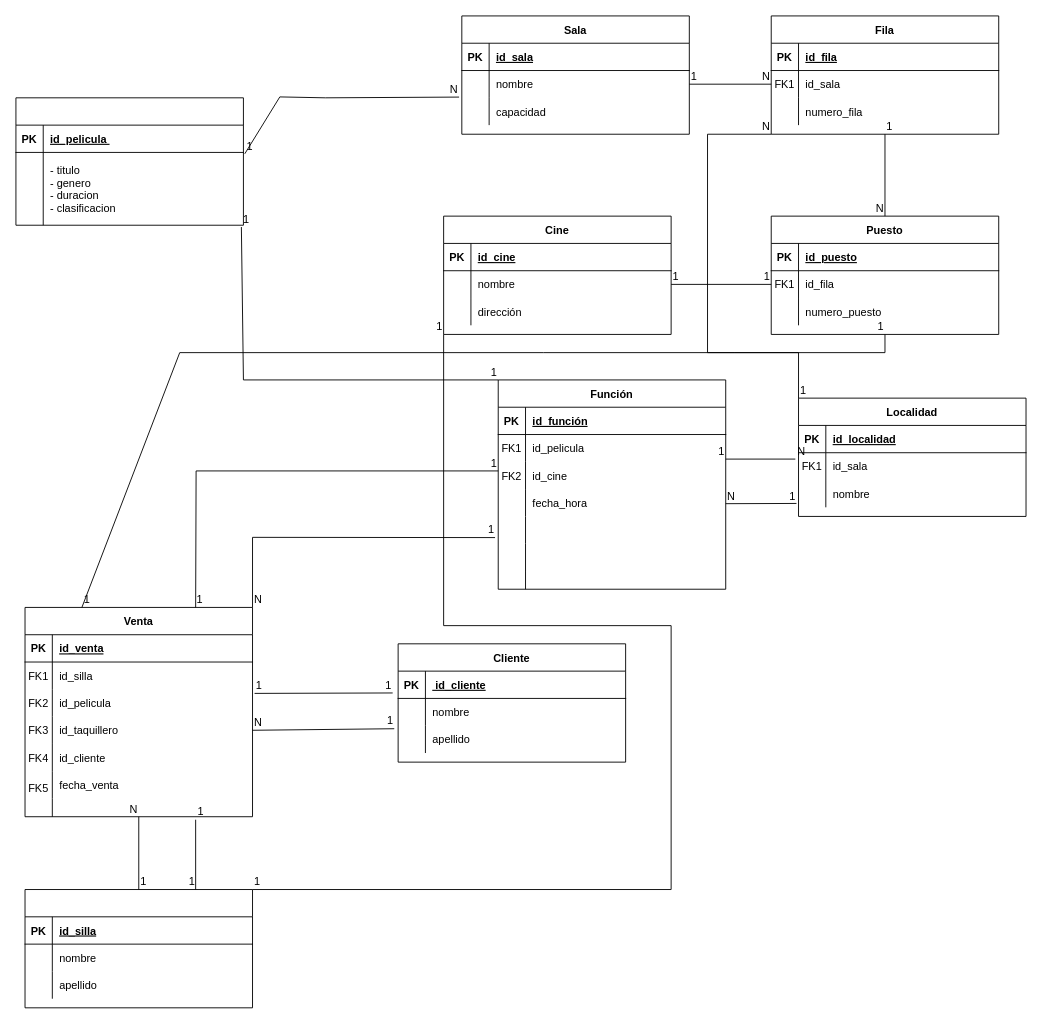
Image size: 1042x1024. Some labels were removed from this diagram. The shapes that lost their labels are listed below. From the top down, each one's box as (x1, y1, x2, y2) in pixels, then its label:
(15, 97, 243, 225): Película
(24, 889, 253, 1008): Taquillero
